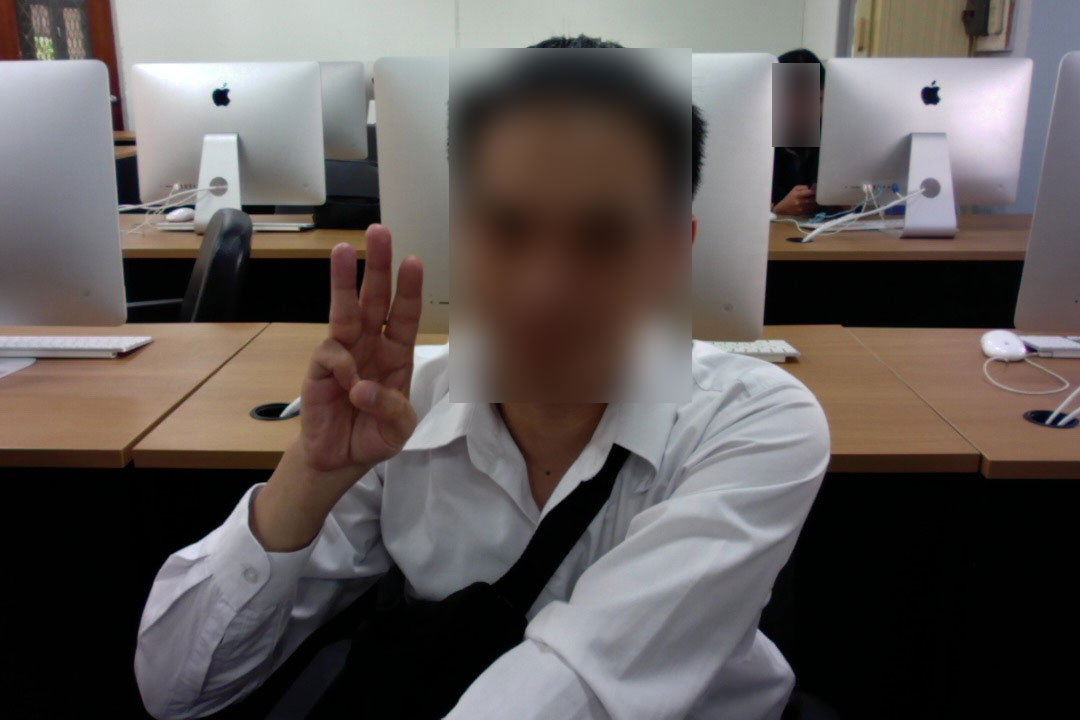wor: (297, 217, 430, 478)
